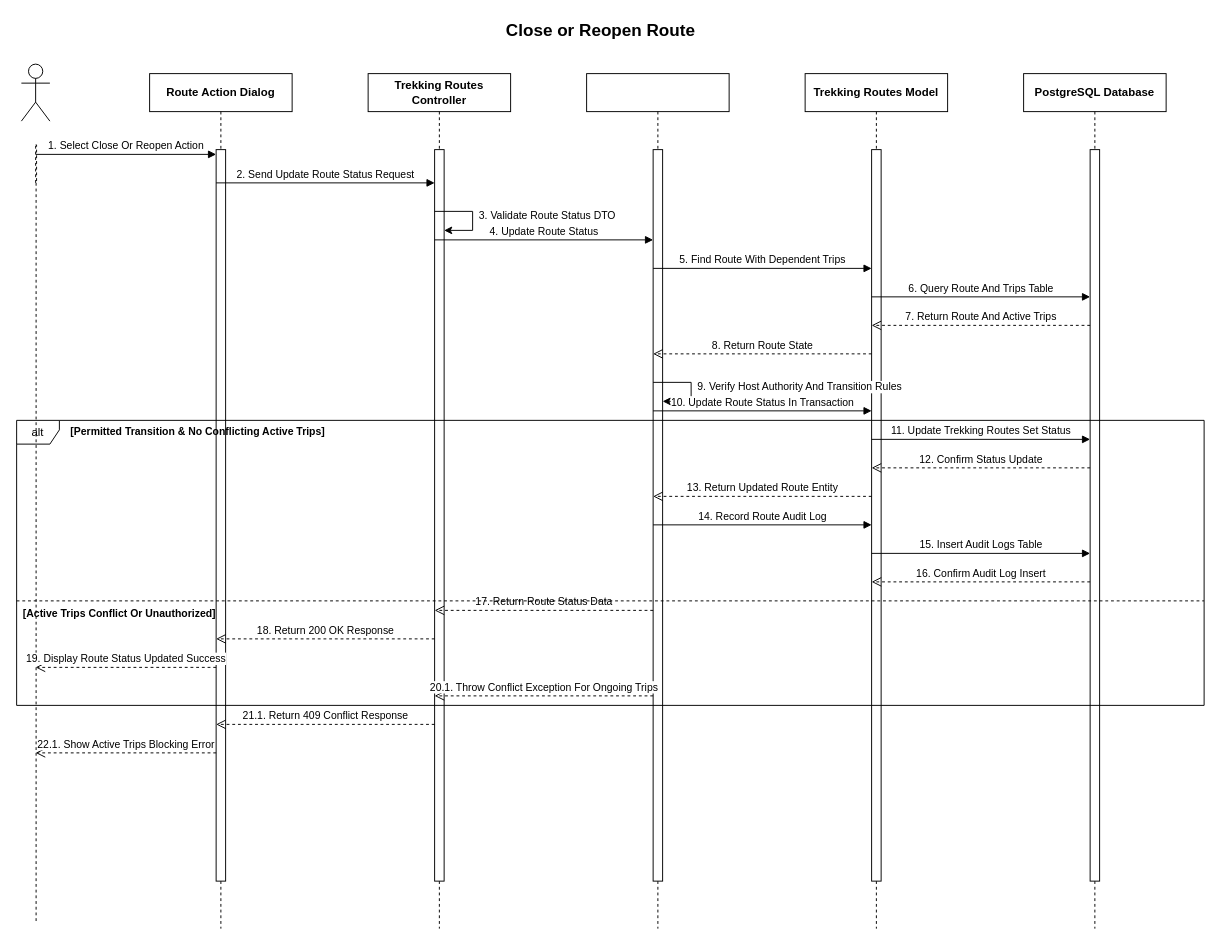
The diagram is 1221 pixels wide and 945 high, and some of its shapes have lost their labels. The box of each missing label's shape, as (x1, y1, x2, y2) in pixels:
Host: (20, 63, 50, 121)
Trekking Routes Service: (586, 73, 729, 929)
